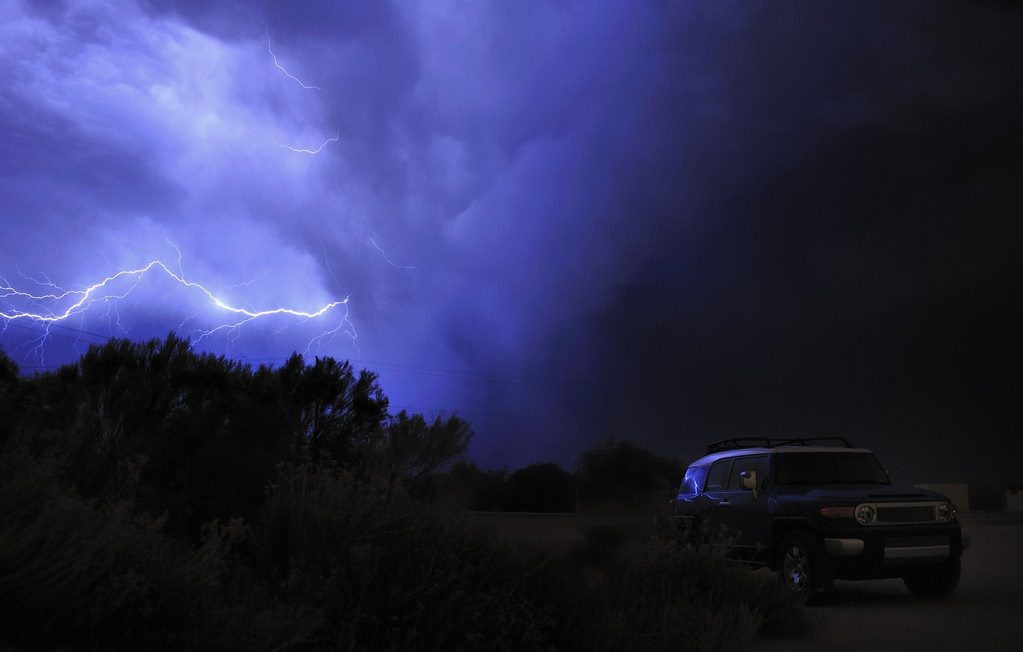car: (660, 435, 976, 608)
